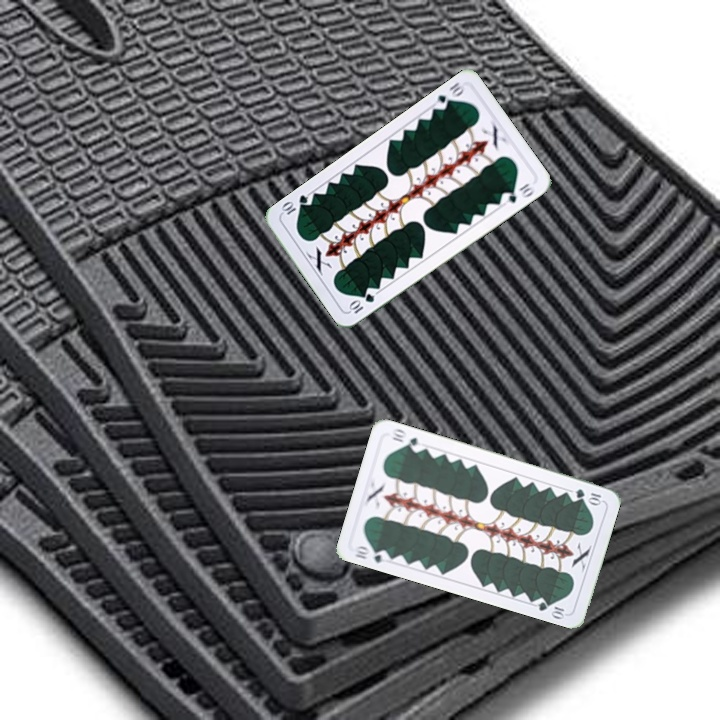G10: (430, 78, 467, 113), (350, 542, 391, 566), (345, 289, 377, 316), (571, 485, 604, 507)
